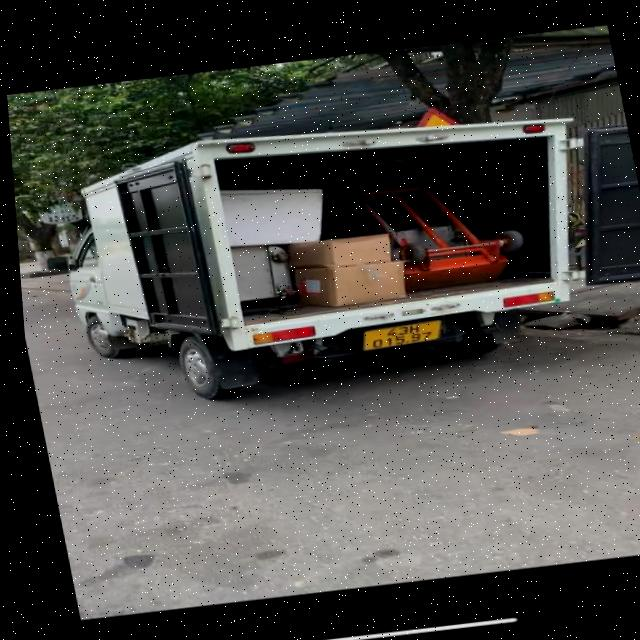car: (23, 70, 616, 431)
plate: (350, 308, 454, 360)
